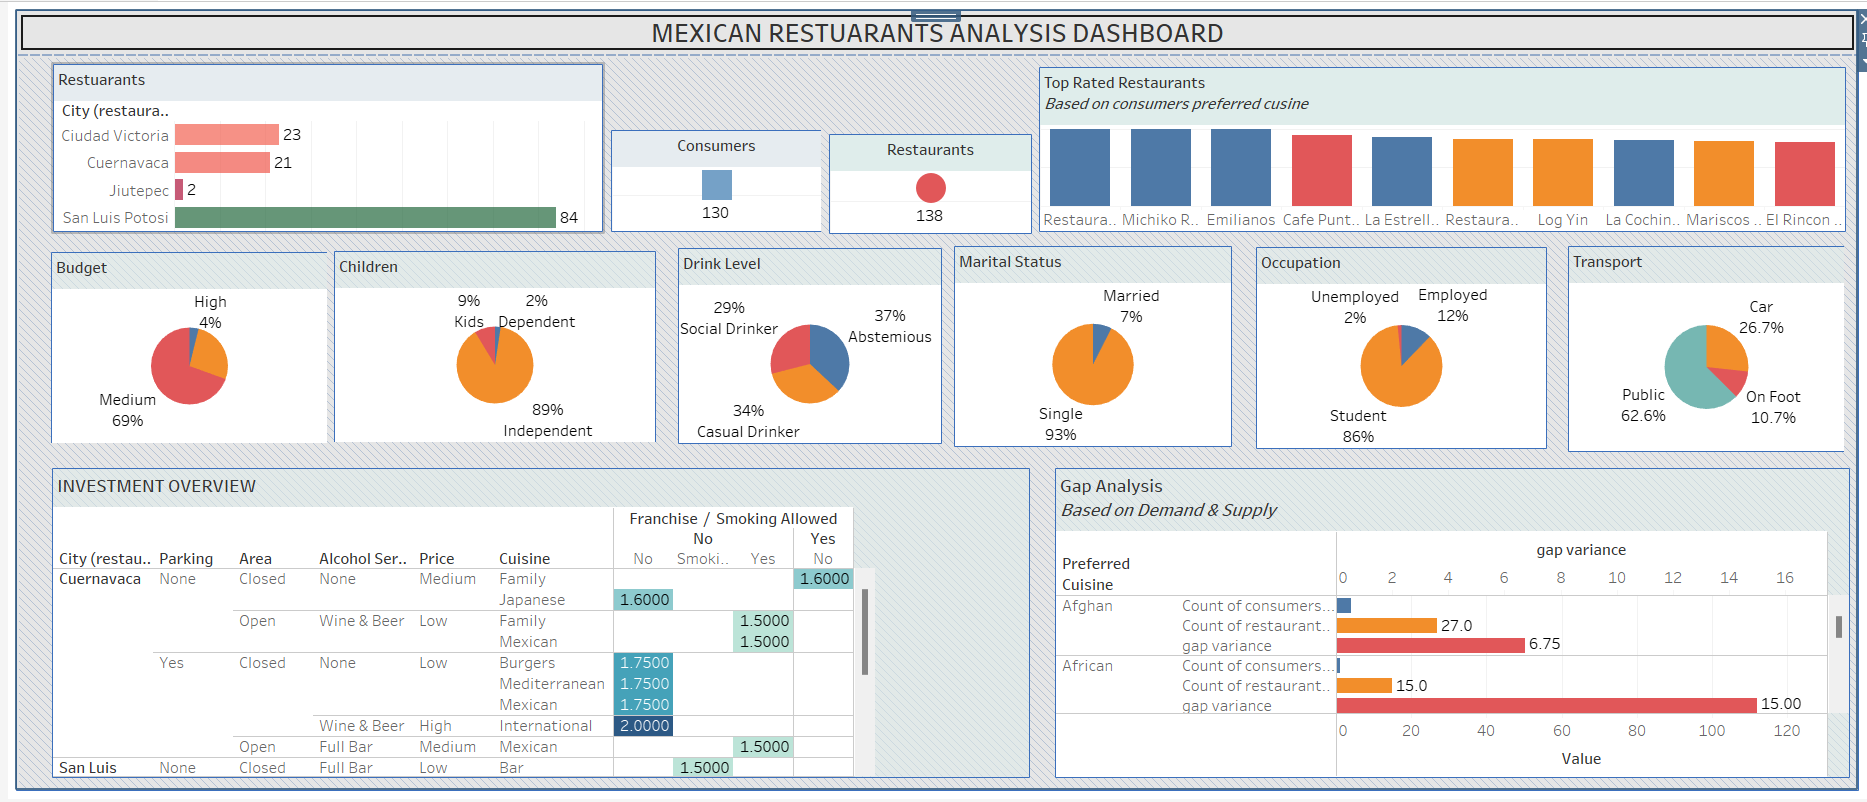

What the dashboard file says about the page in this screenshot:
{"tool":"tableau","page":{"name":"Consumer Preference Analysis for Restaurants in Mexico","canvas":[1000,1000],"units":"permille","ordinal":0},"visuals":[{"type":"title","box":[6.5,13.4,987,53.7]},{"type":"worksheet","title":"Sheet 16","mark":"Automatic","rows":["City (restaurants.csv)"],"cols":["restaurants.csv_7B85A39C3B1045DE87A43F3127563142"],"box":[24.2,77.6,295.8,210.5]},{"type":"worksheet","title":"Sheet 4","mark":"Automatic","rows":["Overall_Rating"],"cols":["Name"],"box":[554.5,82.1,433.9,207.5]},{"type":"worksheet","title":"Sheet 6","mark":"Square","rows":["Restaurant_ID"],"box":[324.2,161.2,113.3,128.4]},{"type":"worksheet","title":"Sheet 7","mark":"Circle","rows":["Consumer_ID"],"box":[441.7,165.7,109.2,125.4]},{"type":"worksheet","title":"Sheet 12","mark":"Pie","box":[509,306,149.5,252.2]},{"type":"worksheet","title":"Sheet 15","mark":"Pie","box":[839,306,148.7,258.2]},{"type":"worksheet","title":"Sheet 13","mark":"Pie","box":[671.5,307.5,156.7,253.7]},{"type":"worksheet","title":"Sheet 11","mark":"Pie","box":[360.3,309,142.2,246.3]},{"type":"worksheet","title":"Sheet 10","mark":"Pie","box":[175.5,311.9,173.3,240.3]},{"type":"worksheet","title":"Sheet 9","mark":"Pie","box":[23.1,313.4,148.7,240.3]},{"type":"worksheet","title":"RATINGS","mark":"Automatic","rows":["City (restaurants.csv)","Parking","Area","Alcohol_Service","Price","Cuisine"],"cols":["Franchise","Smoking_Allowed"],"box":[23.8,585.1,526.4,389.6]},{"type":"worksheet","title":"gap","mark":"Bar","rows":["Preferred_Cuisine"],"cols":["Calculation_645140687441440769"],"box":[563.2,585.1,427.4,389.6]}]}

Visuals, with their boxes on the dashboard's canvas, which has no fixed pixel size, in thousandths of its width and height (x1, y1, x2, y2). These are canvas units, not pixel positions in the 1867x802 screenshot, which may show the page scaled, cropped or inside an application window:
title: box(6, 13, 994, 67)
"Sheet 16" worksheet: box(24, 78, 320, 288)
"Sheet 4" worksheet: box(554, 82, 988, 290)
"Sheet 6" worksheet (Square marks): box(324, 161, 438, 290)
"Sheet 7" worksheet (Circle marks): box(442, 166, 551, 291)
"Sheet 12" worksheet (Pie marks): box(509, 306, 658, 558)
"Sheet 15" worksheet (Pie marks): box(839, 306, 988, 564)
"Sheet 13" worksheet (Pie marks): box(672, 308, 828, 561)
"Sheet 11" worksheet (Pie marks): box(360, 309, 502, 555)
"Sheet 10" worksheet (Pie marks): box(176, 312, 349, 552)
"Sheet 9" worksheet (Pie marks): box(23, 313, 172, 554)
"RATINGS" worksheet: box(24, 585, 550, 975)
"gap" worksheet (Bar marks): box(563, 585, 991, 975)
